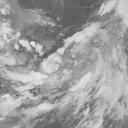cyclone: (32, 21, 123, 107)
